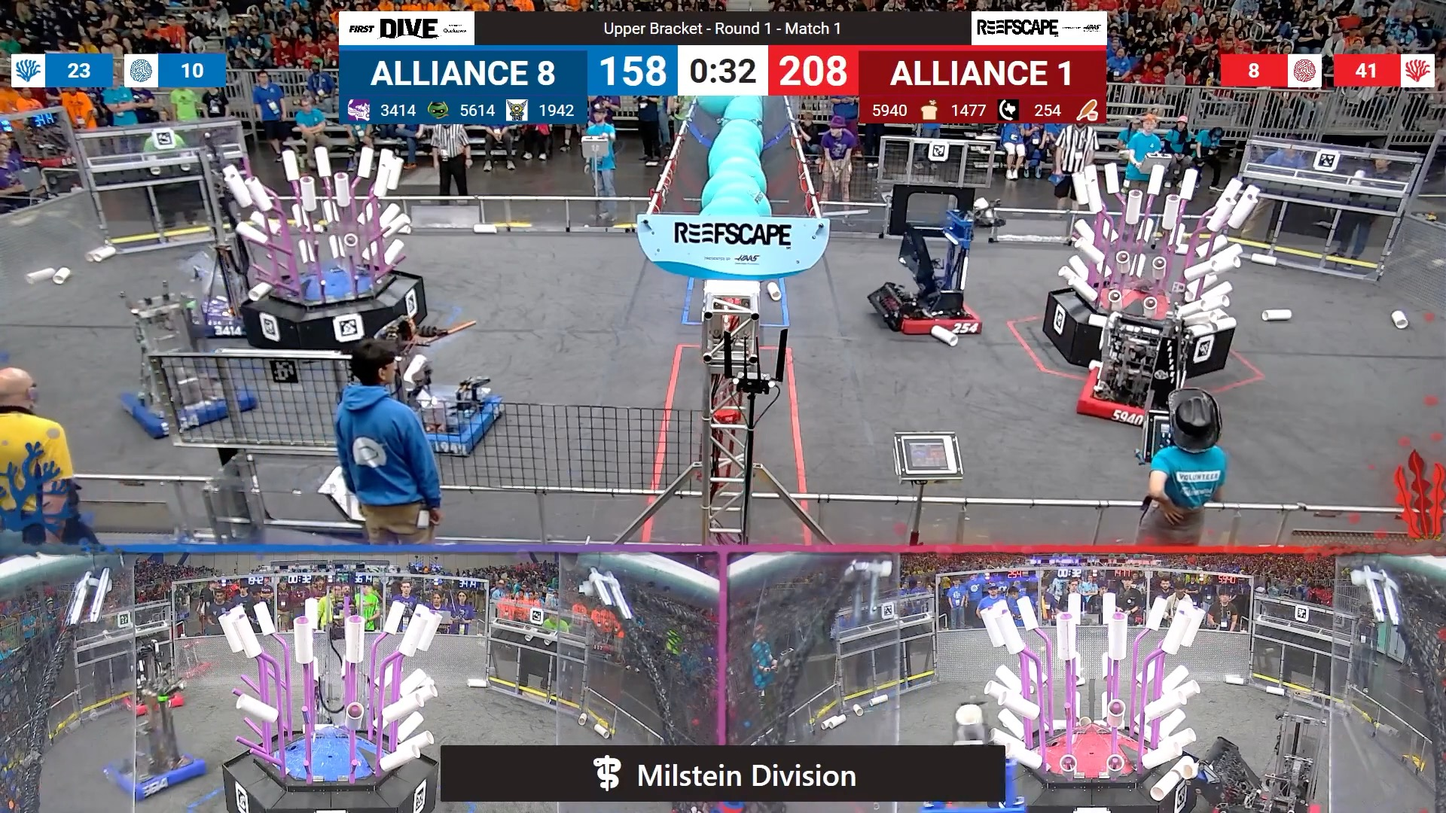bumpers: (377, 383, 509, 463), (117, 387, 264, 442), (1072, 367, 1189, 429), (874, 288, 993, 346), (100, 748, 214, 803), (188, 297, 260, 343), (1199, 791, 1328, 813), (125, 688, 193, 718)
